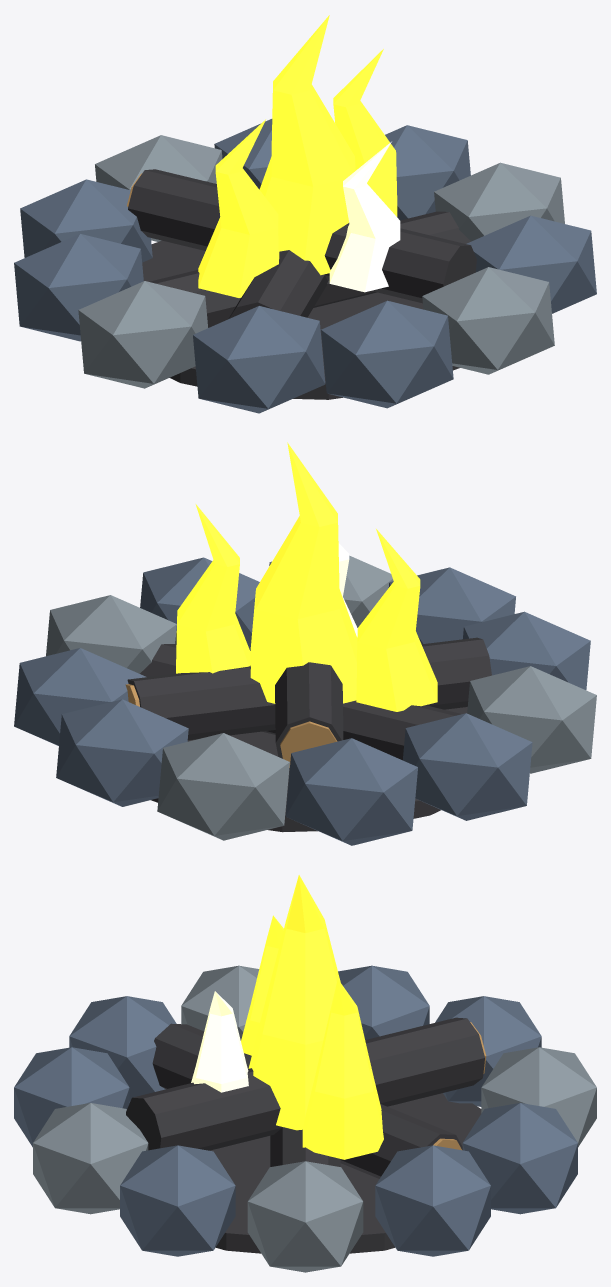
File: SM_Campfire.fbx
3 views of the same model, one above another, from view 1: azimuth 30°, elevation 25°; view 2: azimuth 150°, elevation 25°; view 3: azimuth 270°, elevation 25° (orthographic). The views are drawn at different scales.
Parts seen in each view (by area): view 1: SM_Campfire; view 2: SM_Campfire; view 3: SM_Campfire.
Boxes of the visible parts, x1,y1,x2,y2 form: SM_Campfire: (14,15,596,413); SM_Campfire: (14,442,596,845); SM_Campfire: (14,875,596,1272).
Size of the model in its own units: 1.88 by 1.8 by 1.06.
